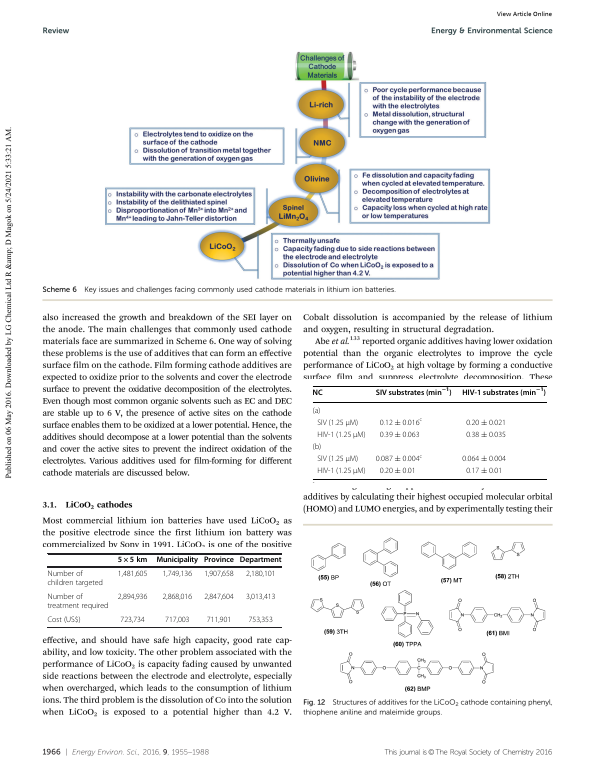borderless: (311, 384, 547, 479), (46, 552, 282, 627)
cell: (47, 592, 109, 610), (47, 569, 104, 587), (461, 387, 547, 397), (375, 387, 453, 397), (375, 453, 423, 464), (316, 430, 367, 440), (379, 417, 423, 428), (316, 467, 367, 476), (316, 418, 359, 428), (465, 418, 507, 428), (379, 430, 421, 440), (465, 430, 507, 440), (461, 455, 507, 464), (155, 556, 199, 565), (239, 556, 282, 565), (316, 455, 359, 464), (379, 467, 417, 476), (465, 467, 503, 476), (161, 569, 193, 579), (203, 569, 235, 579), (47, 615, 82, 624), (117, 569, 148, 579), (245, 569, 276, 579), (203, 556, 235, 565), (161, 592, 193, 601), (203, 592, 235, 601), (117, 556, 148, 565), (117, 592, 148, 601), (245, 592, 276, 601), (119, 615, 146, 624), (247, 615, 274, 624), (164, 615, 190, 624), (206, 615, 232, 624), (312, 388, 324, 397), (312, 406, 321, 416), (312, 443, 322, 452)
